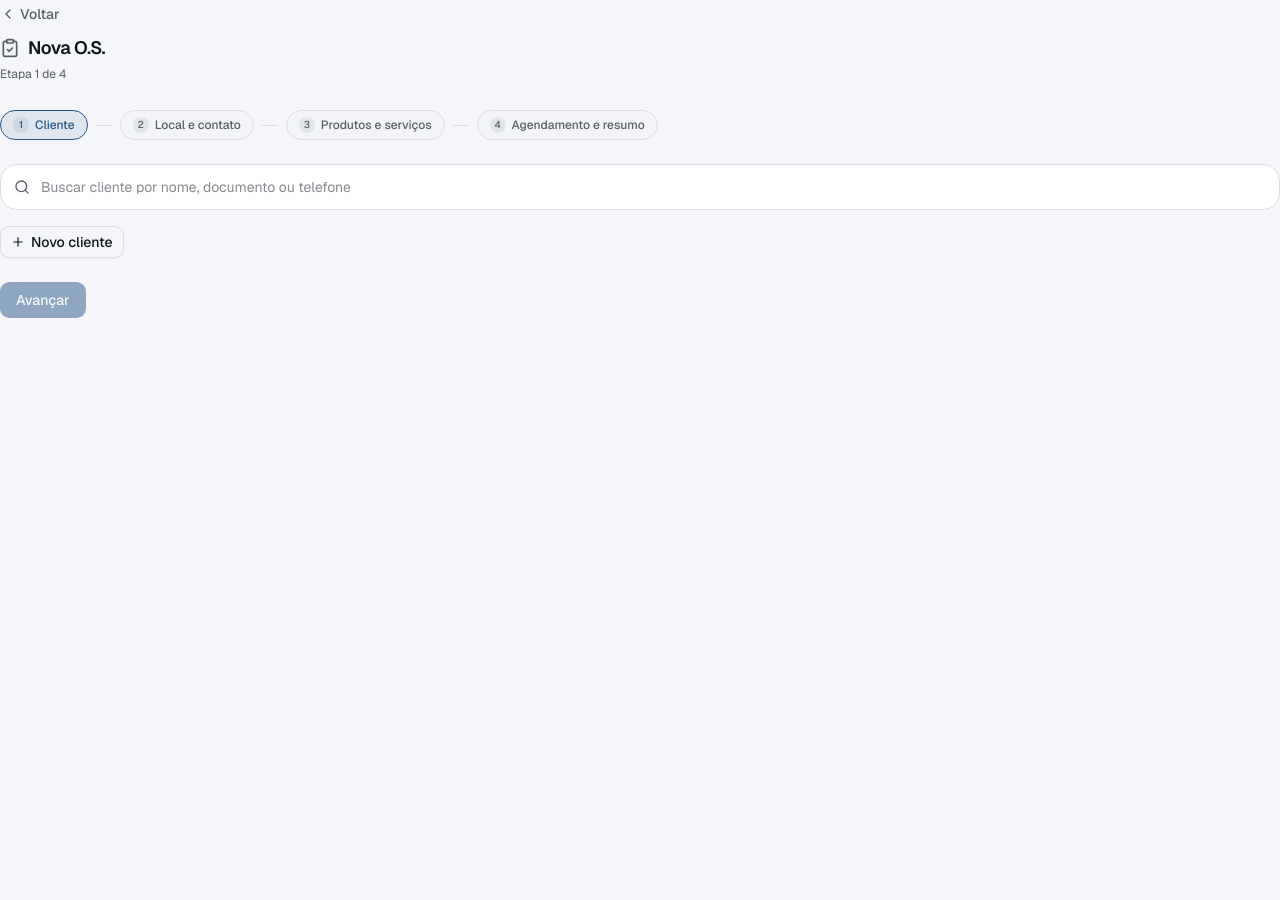
ServiceOrderWizard › W4: cannot advance from step 2 without an address selected
Click the button "Novo cliente" at (62, 242), box [0, 226, 124, 258]
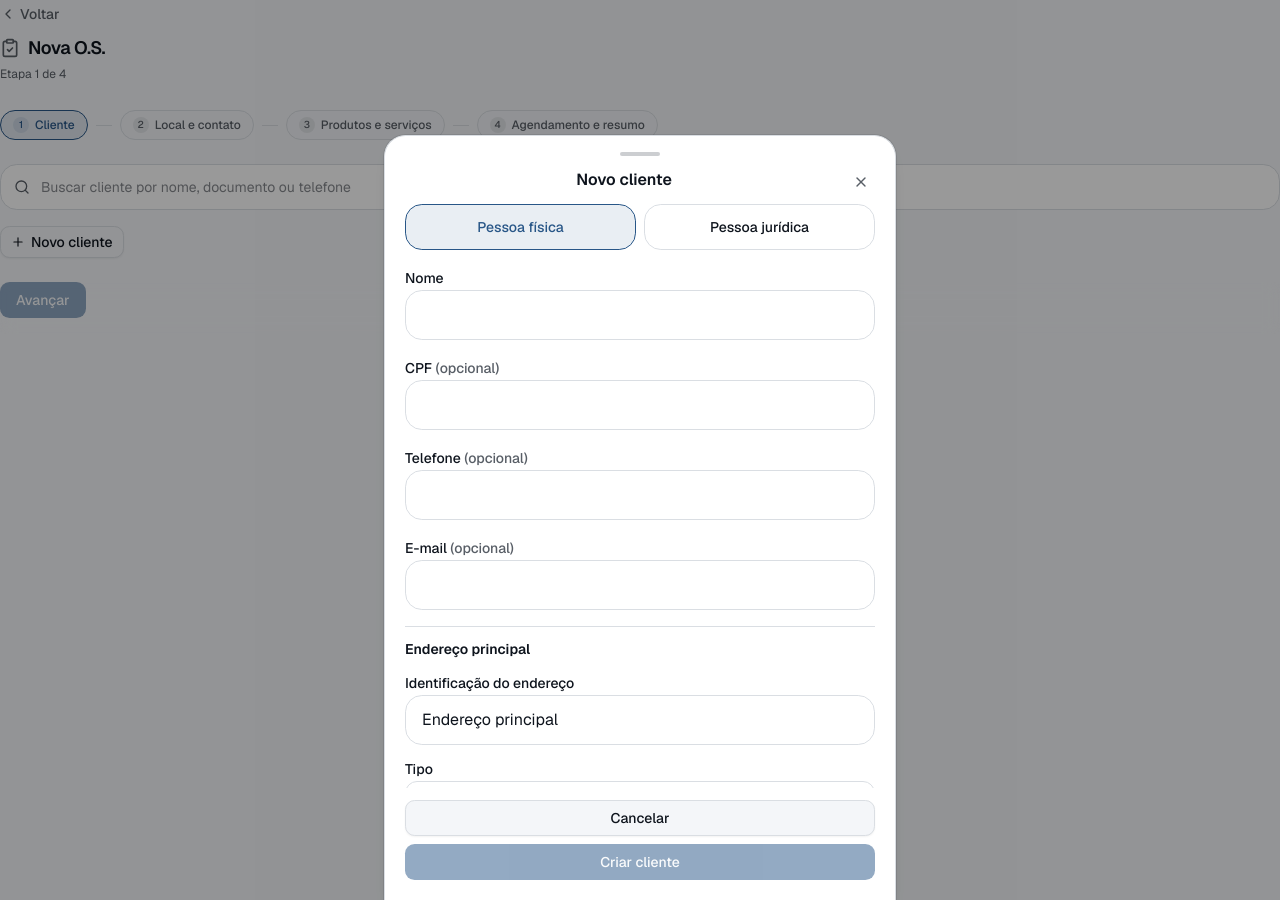
Type "Cliente Teste" into the field labelled "Nome" at (640, 315), box [405, 290, 875, 340]
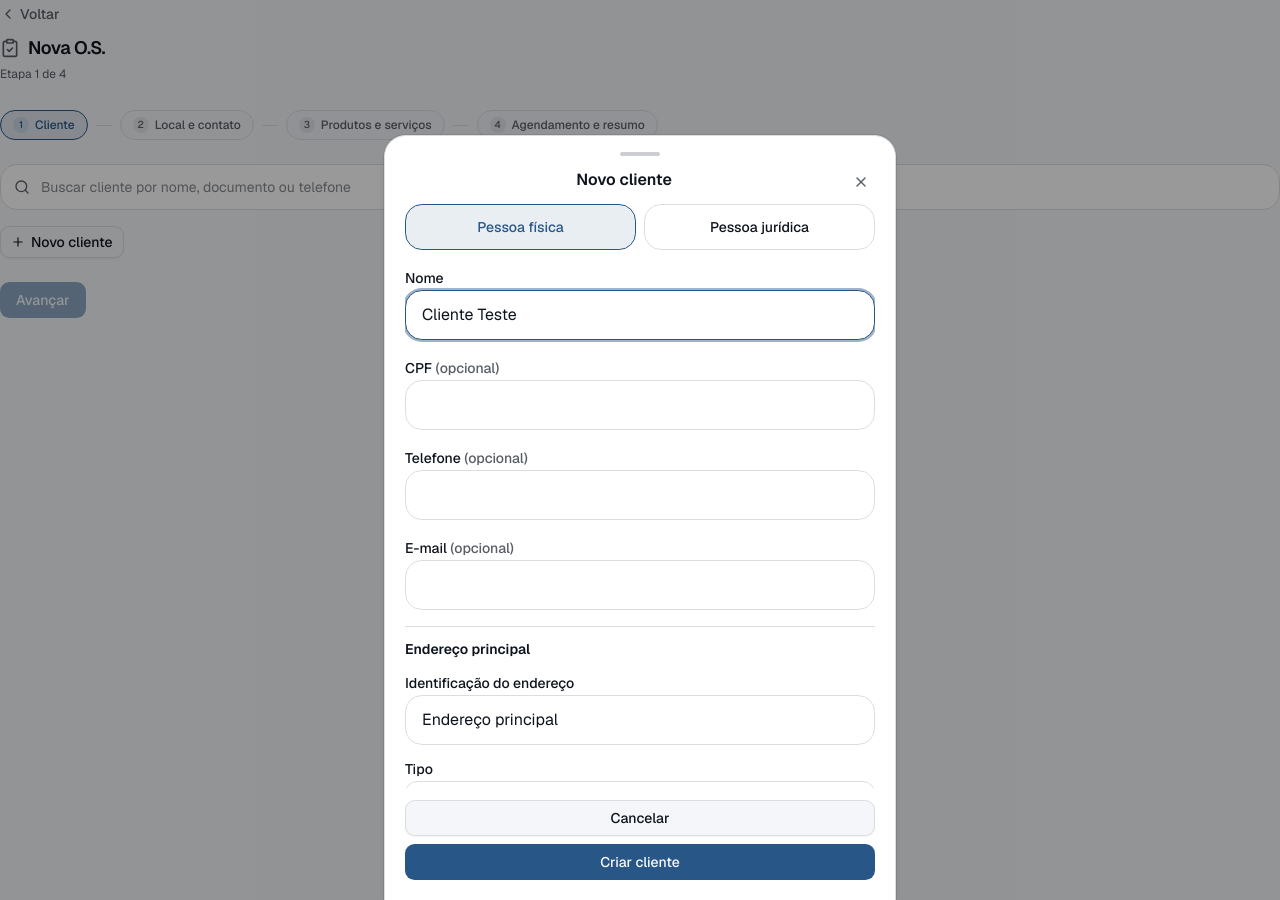
Click the button "Criar cliente" at (640, 862), box [405, 844, 875, 880]
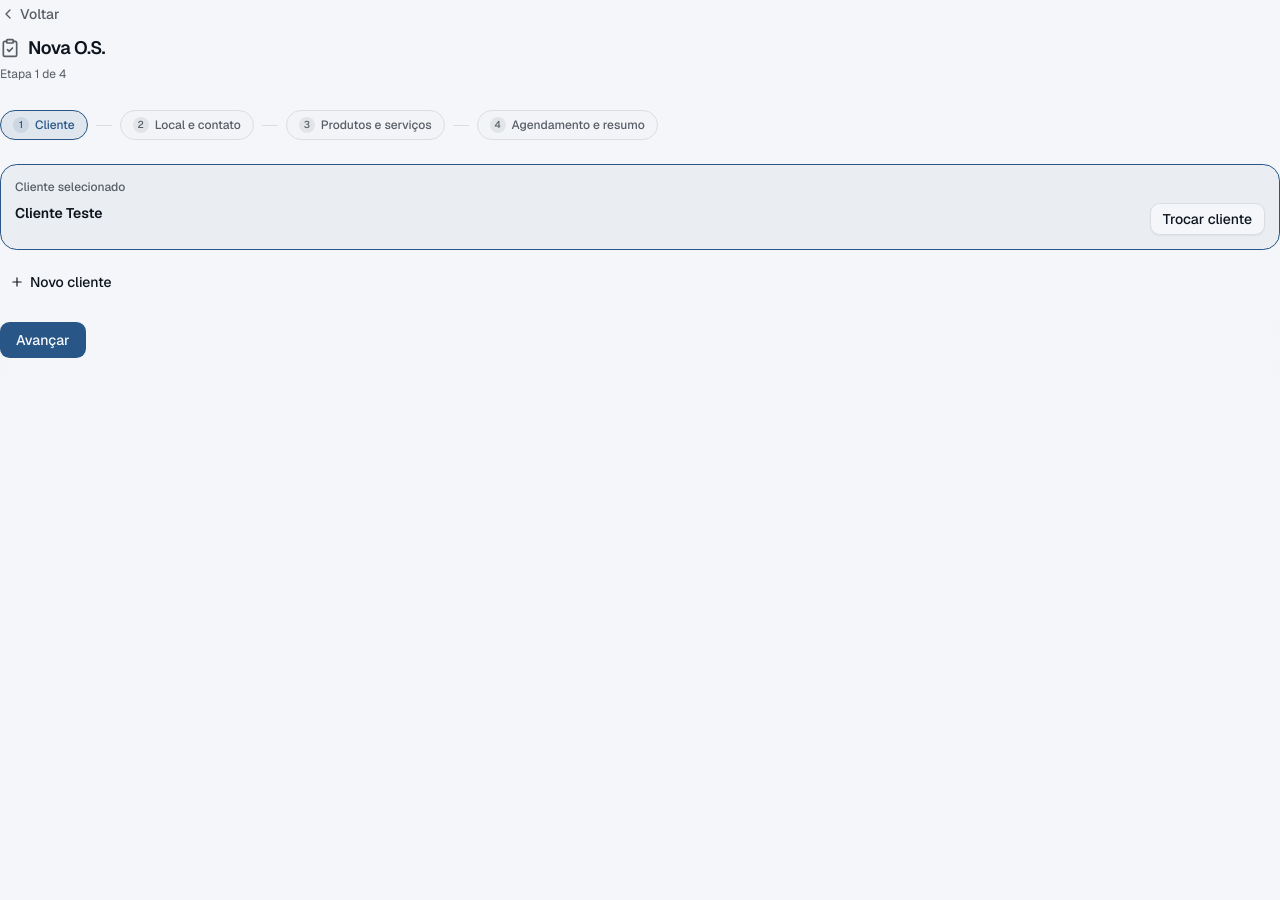
Now the text "Cliente Teste" is shown, box [15, 203, 103, 223]
Click the button "Avançar" at (43, 340), box [0, 322, 86, 358]
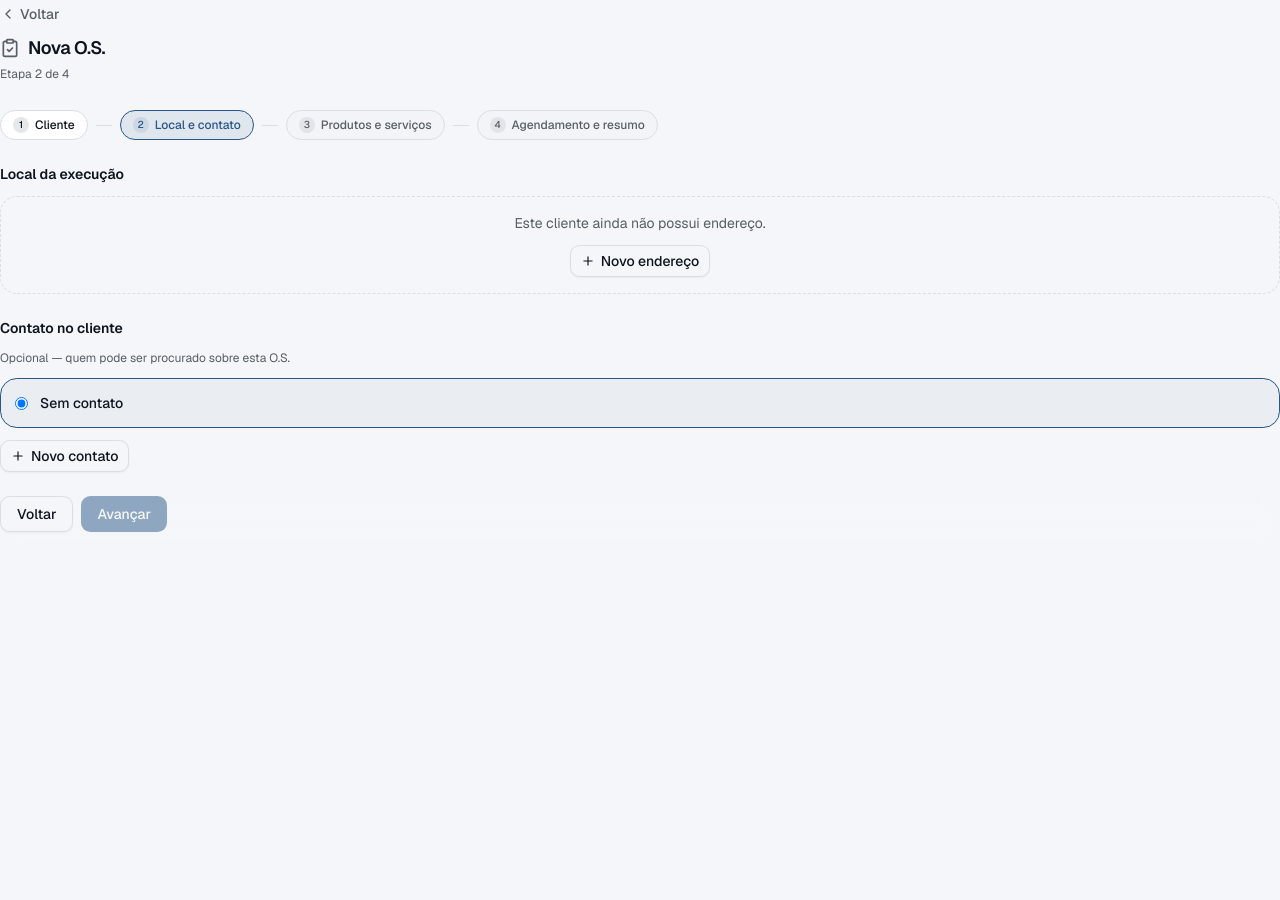
Now the text "Este cliente ainda não possui endereço." is shown, box [514, 214, 766, 232]
Now the button "Avançar" is disabled, box [82, 496, 167, 532]
